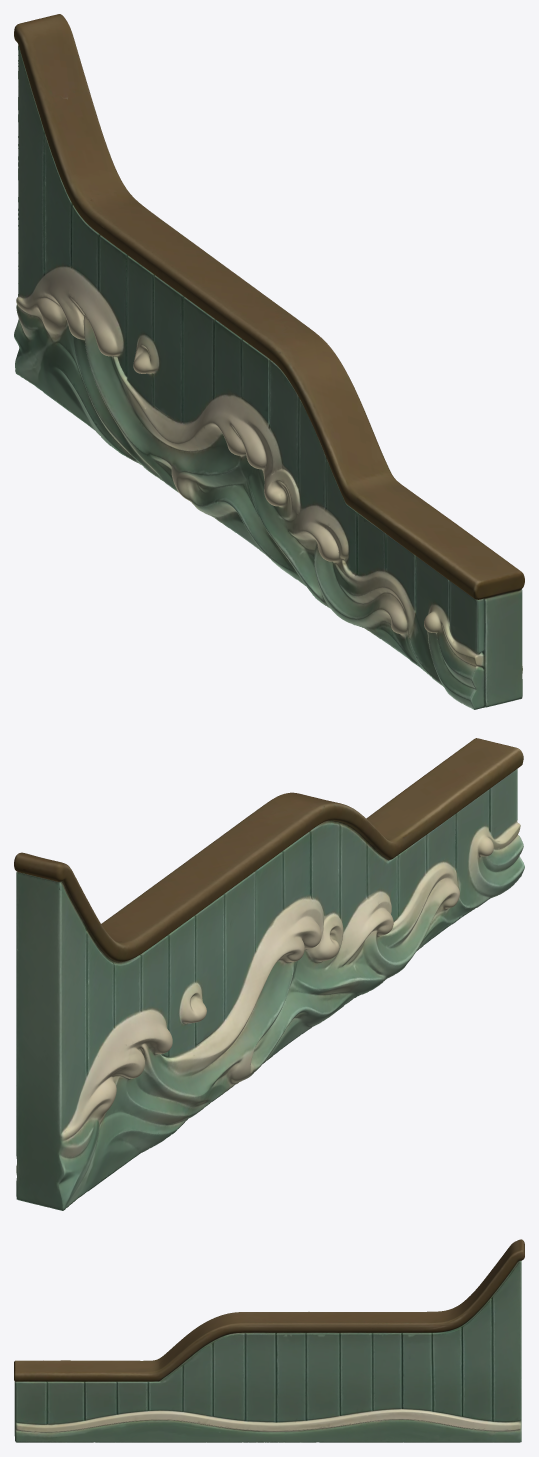
File: act1_west_curve_wall_rodin.glb
3 renders of one model, top to bottom at view 1: azimuth 30°, elevation 25°; view 2: azimuth 150°, elevation 25°; view 3: azimuth 270°, elevation 25°, orthographic. The views are drawn at different scales.
Visible parts, largest first — view 1: RODIN_Act1_WestCurveWall; view 2: RODIN_Act1_WestCurveWall; view 3: RODIN_Act1_WestCurveWall.
Part boxes in pixels (left/top/right/bottom): RODIN_Act1_WestCurveWall: left=14, top=14, right=524, bottom=709; RODIN_Act1_WestCurveWall: left=14, top=738, right=524, bottom=1210; RODIN_Act1_WestCurveWall: left=14, top=1239, right=524, bottom=1442.
Bounding box in the file's own units: 0.4601 × 2.43 × 5.88.
1 material, 1 textured.
